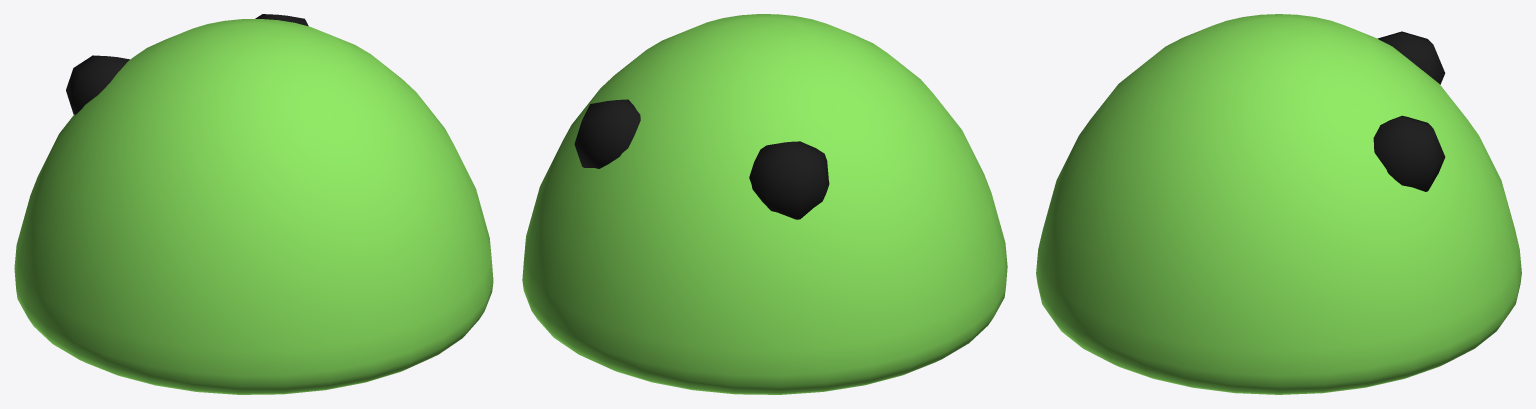
Rendered from slime.glb.
3 views of the same model, side by side, from view 1: azimuth 30°, elevation 25°; view 2: azimuth 150°, elevation 25°; view 3: azimuth 270°, elevation 25° (orthographic).
Visible parts, largest first — view 1: Slime; view 2: Slime; view 3: Slime.
Boxes of the visible parts, left/top/right/bottom form: Slime: left=14, top=14, right=493, bottom=394; Slime: left=522, top=14, right=1007, bottom=394; Slime: left=1036, top=14, right=1521, bottom=394.
Size of what is drawn, in the model's own units: 1.98 by 1.21 by 1.98.
